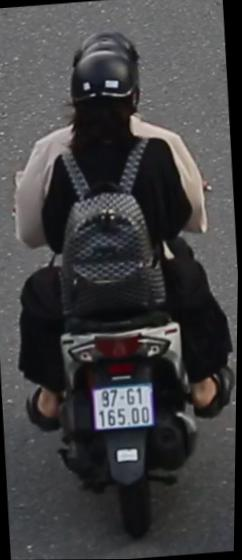LP: (90, 380, 161, 438)
helmet: (59, 43, 148, 142), (67, 22, 142, 69)
